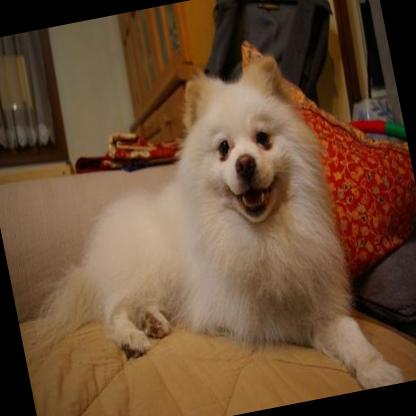Pomeranian: (0, 39, 400, 416)
